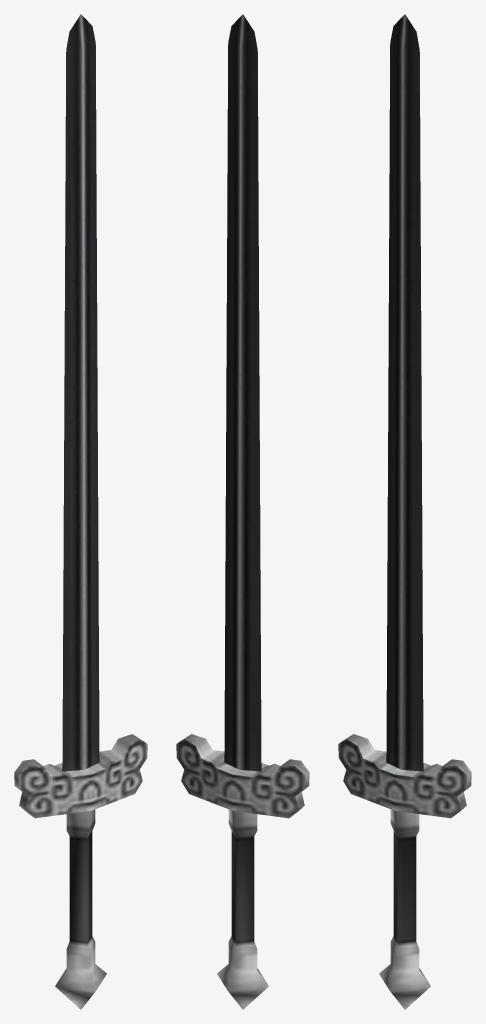
Rendered from Sword27_a.FBX.
The picture shows the model from 3 angles, left to right: view 1: azimuth 30°, elevation 25°; view 2: azimuth 150°, elevation 25°; view 3: azimuth 330°, elevation 25°; orthographic projection.
Visible parts, largest first — view 1: Sword27_a; view 2: Sword27_a; view 3: Sword27_a.
Boxes of the visible parts, x1,y1,x2,y2 form: Sword27_a: [14, 14, 147, 1009]; Sword27_a: [176, 14, 309, 1009]; Sword27_a: [338, 14, 471, 1009].
Size of the model in its own units: 14.96 by 110 by 6.04.
